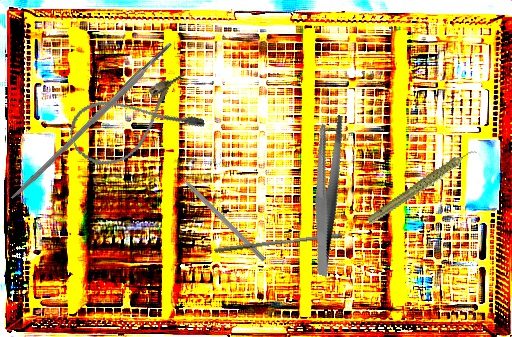Cannula: (62, 69, 208, 175)
Chopper: (170, 161, 272, 263)
Dressing Forceps: (275, 110, 378, 278)
Handpiece: (357, 147, 489, 227)
Pusher: (214, 228, 342, 258)
Scalpel Handle: (9, 41, 175, 202)
